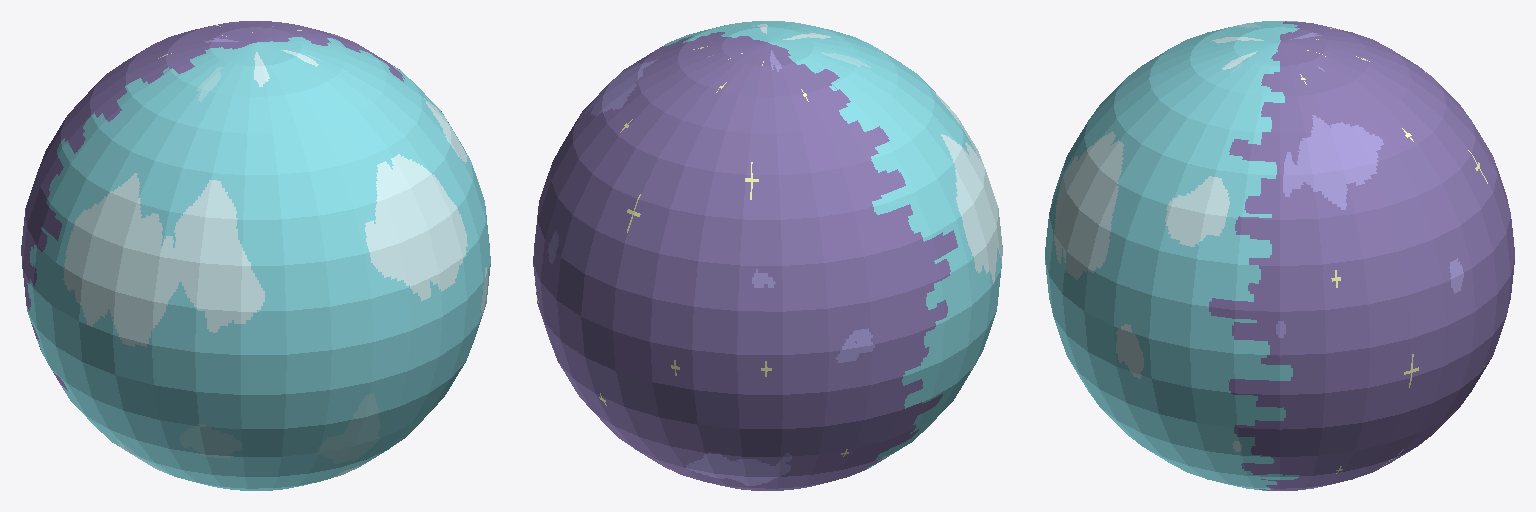
The picture shows the model from 3 angles: view 1: azimuth 30°, elevation 25°; view 2: azimuth 150°, elevation 25°; view 3: azimuth 270°, elevation 25°; orthographic projection.
Visible parts, largest first — view 1: 球; view 2: 球; view 3: 球.
Boxes of the visible parts, x1=… form: 球: x1=21, y1=21, x2=490, y2=490; 球: x1=533, y1=21, x2=1002, y2=490; 球: x1=1045, y1=21, x2=1514, y2=490.
Bounding box in the file's own units: 2 × 2 × 2.
Materials: 1 (1 with a texture image).